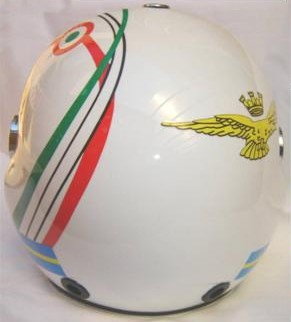helmet: (16, 23, 265, 280)
